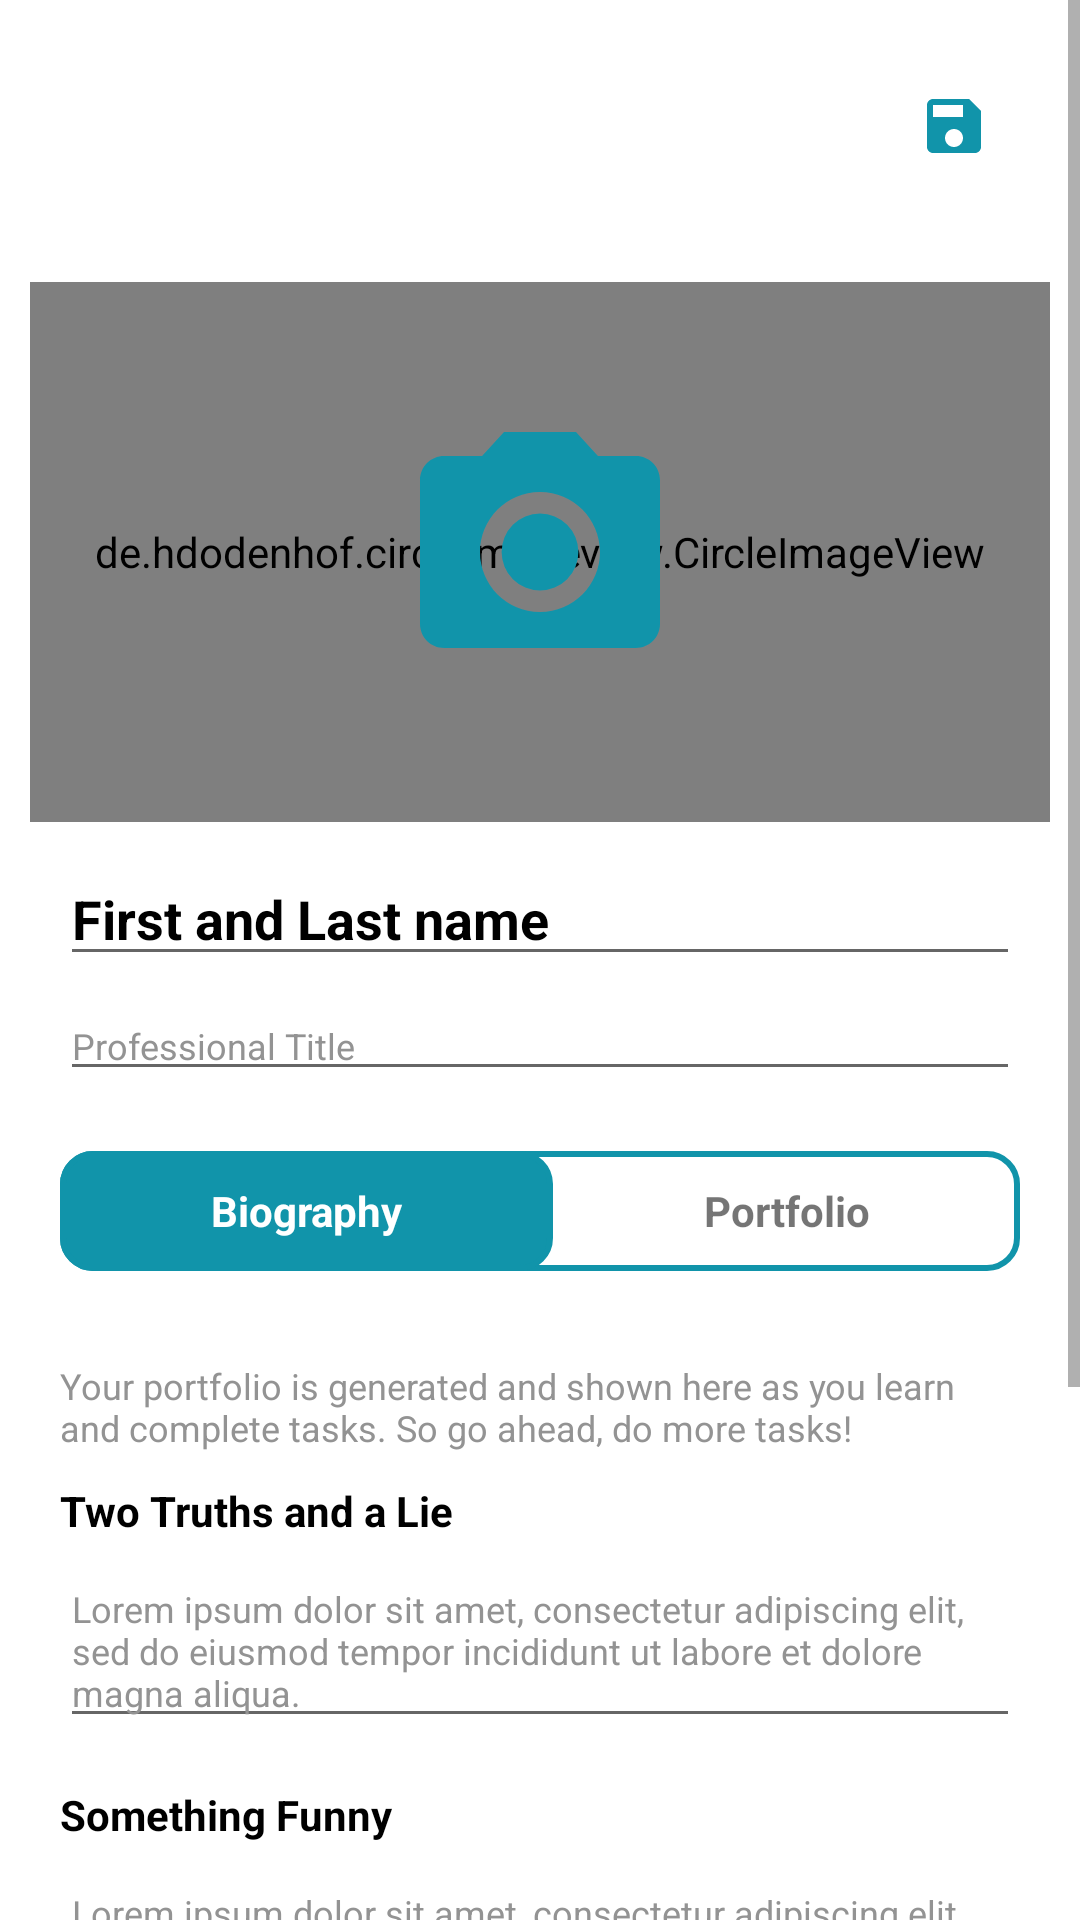

Where icons sit on this 1080×1920 app screen, as BBox(x1, y1, x2, y2):
save floppy disk: BBox(927, 99, 981, 153)
